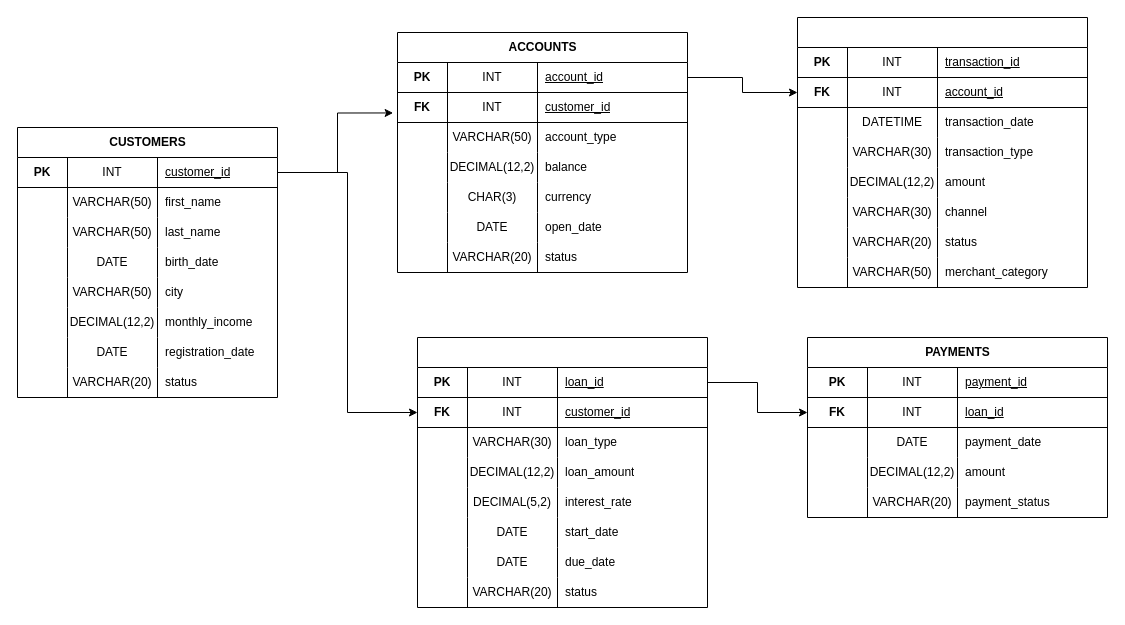
This 1125x625 diagram has some shape labels left out. The shapes that lost their labels are listed below. From the top down, each one's box as (x1, y1, x2, y2) in pixels, then its label:
(796, 16, 1088, 288): TRANSACTİONS
(416, 336, 708, 608): LOANS
